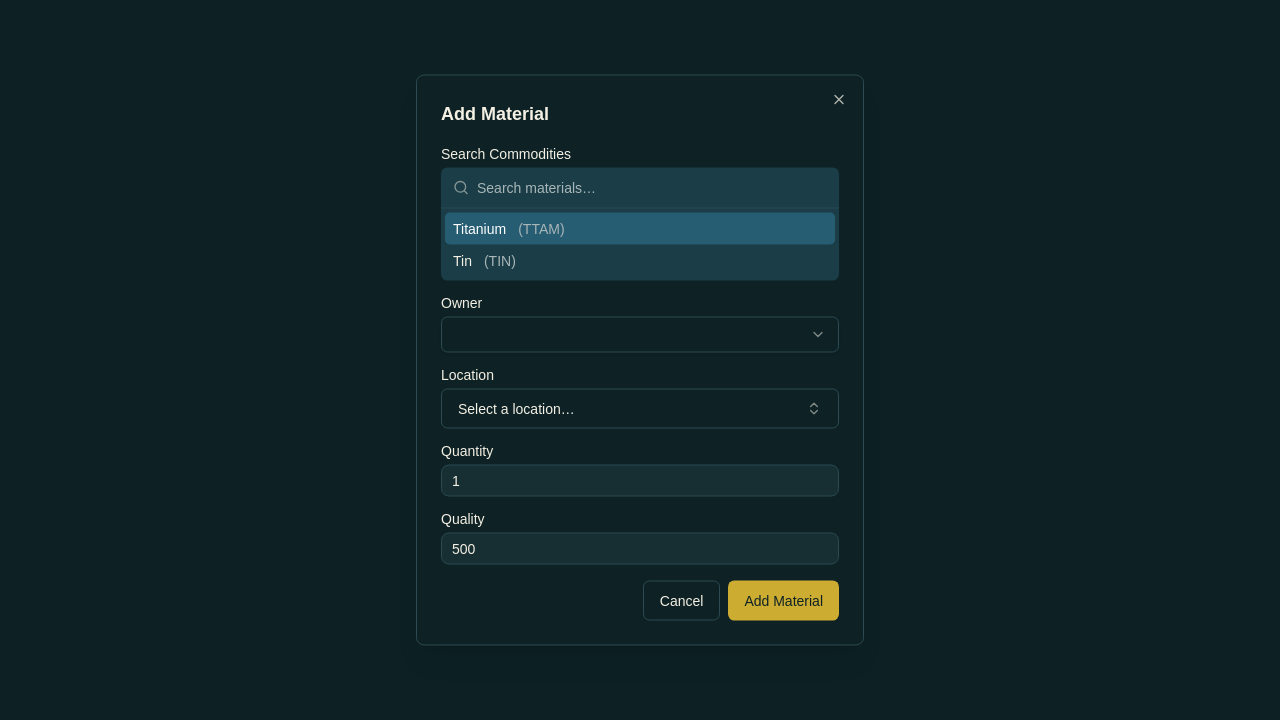
Scenario: AddMaterialDialog › shows a validation message for Quality outside 1..1000
Type "titanium" into the dropdown named "search commodities" at (652, 188), box [477,168,827,208]
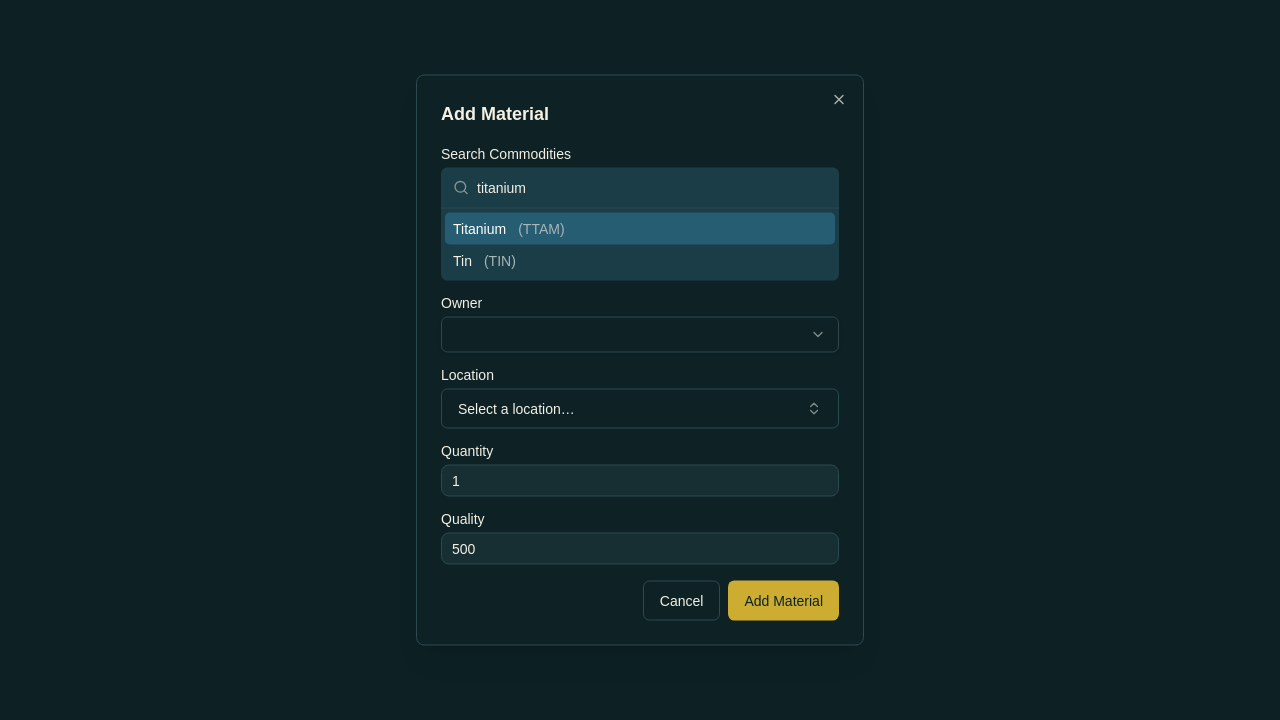
Click the option "Titanium (TTAM)" at (480, 228), box [445,212,835,244]
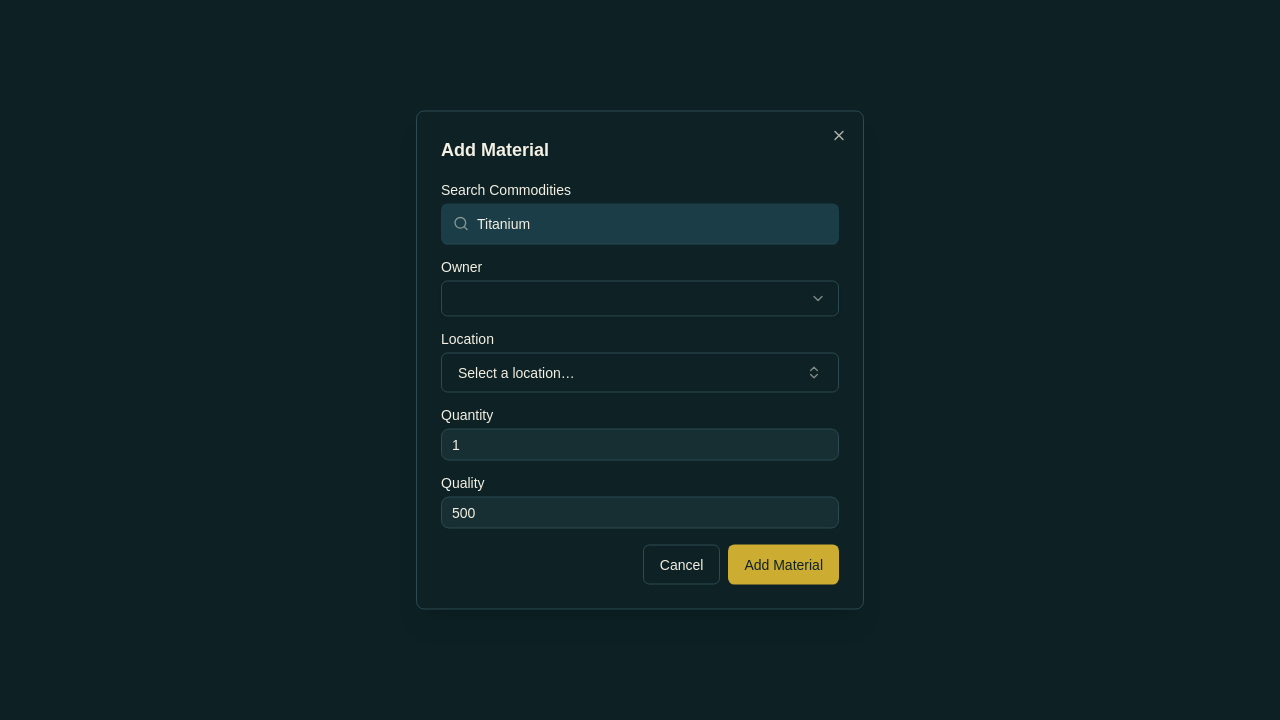
Click the dropdown "Select a location…" at (516, 372), box [441,352,839,392]
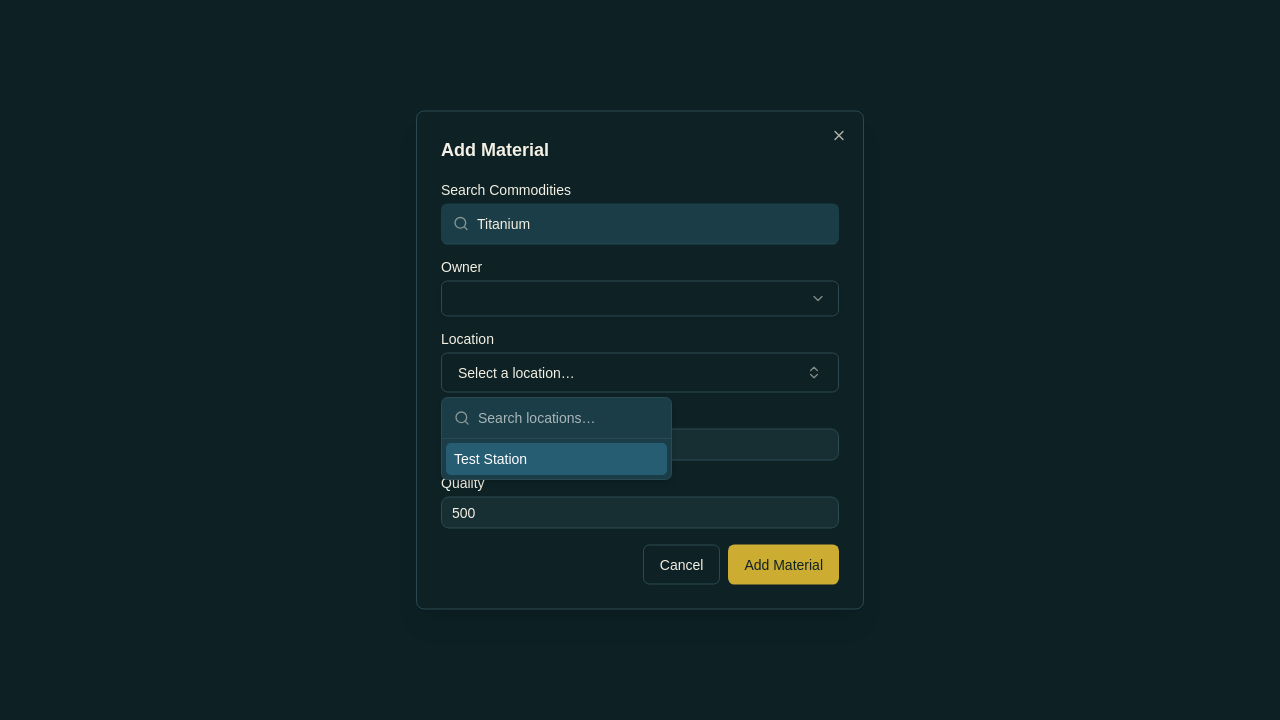
Check: the option "Test Station" is shown
Click the option "Test Station" at (556, 459), box [446,443,667,475]
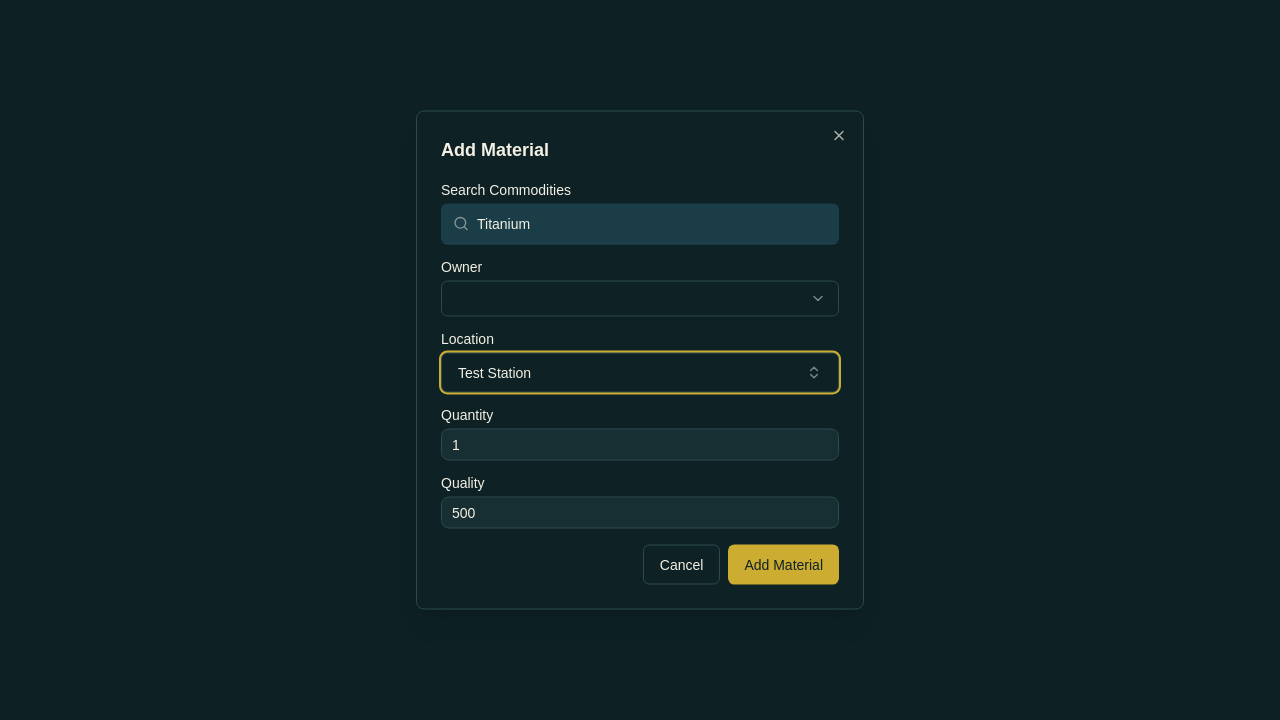
Replace the text in the number field labelled "Quality" with "1001" at (640, 512), box [441,496,839,528]
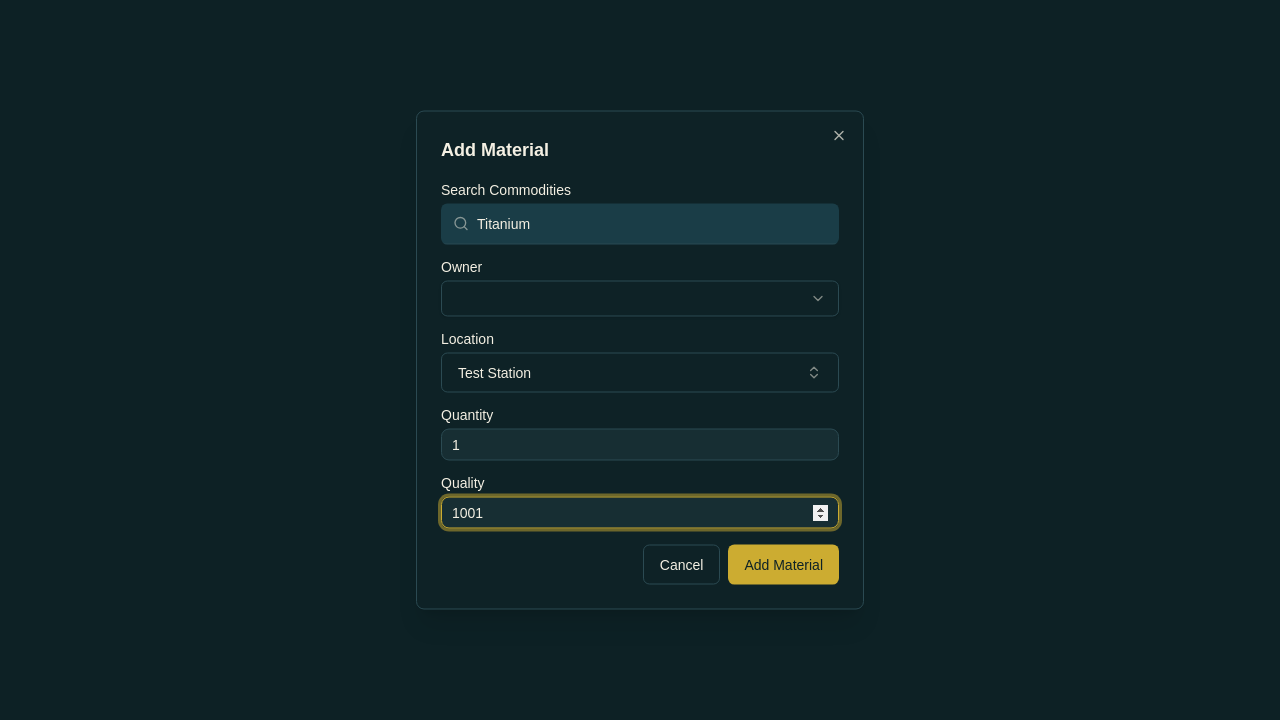
Click the button "Add Material" at (784, 564), box [728,544,839,584]
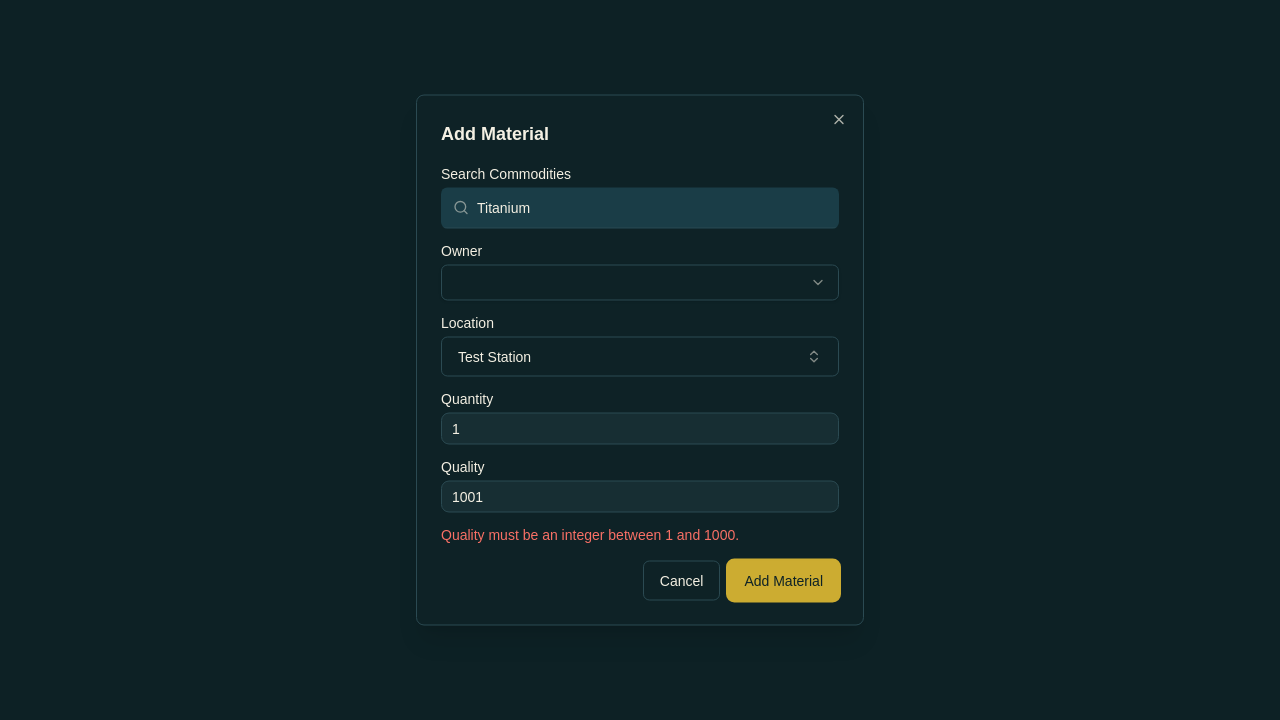
Check: the text "Quality must be an integer between 1 and 1000." is shown, box [441,526,739,542]
